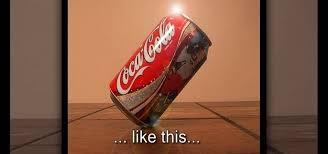Aluminum can: (108, 7, 221, 128)
